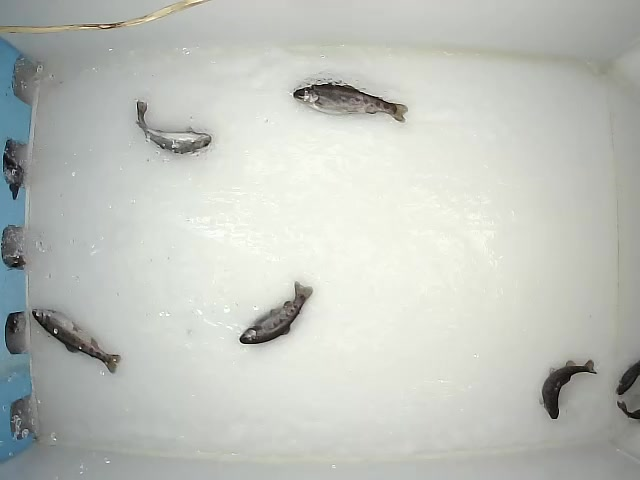fish: (31, 308, 122, 375), (292, 81, 409, 125), (239, 280, 314, 346), (134, 99, 213, 155), (539, 358, 596, 421)
